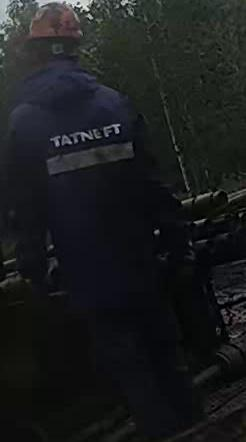helmet: (21, 1, 83, 57)
vest: (3, 58, 163, 312)
